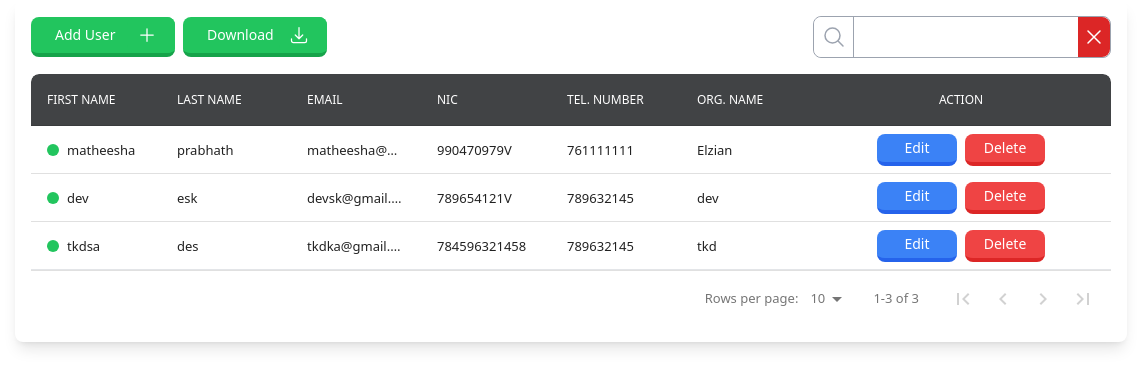
Test: ManageUsers Component › search users correctly
Note: Simulate typing into the search box
In the field: (966, 37) [854,17,1078,57], type "dev"
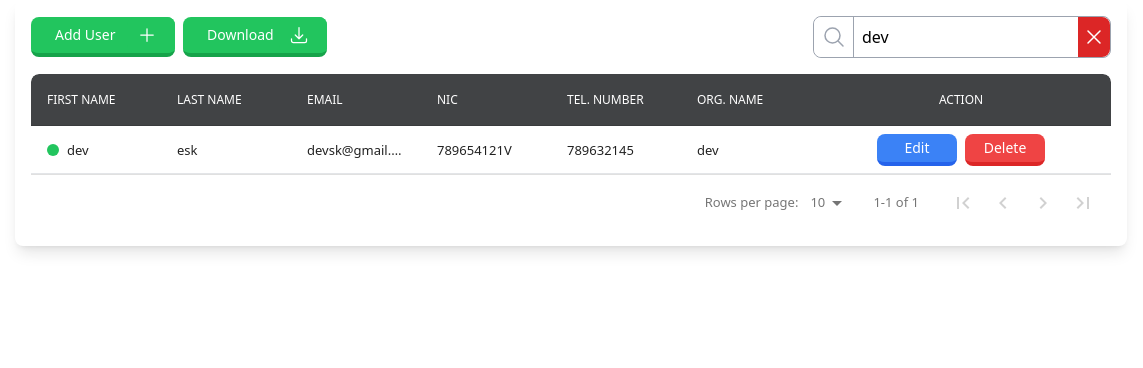
expect the text "devsk@gmail.com" is shown: met, box [307,140,405,158]
expect the text "matheesha@gmail.com" is gone: met
